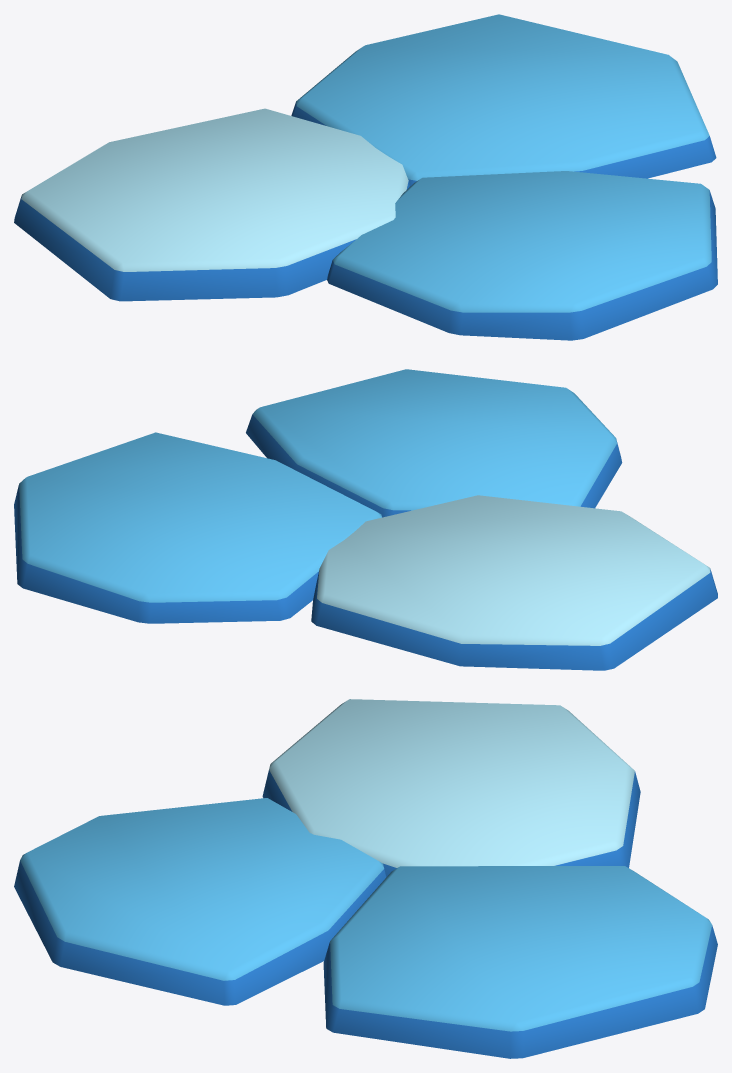
Rendered from IceSlab.fbx.
3 views of the same model, one above another, from view 1: azimuth 30°, elevation 25°; view 2: azimuth 150°, elevation 25°; view 3: azimuth 270°, elevation 25° (orthographic). The views are drawn at different scales.
Visible parts, largest first — view 1: IceSlab; view 2: IceSlab; view 3: IceSlab.
Boxes of the visible parts, x1,y1,x2,y2 form: IceSlab: [14, 14, 717, 340]; IceSlab: [14, 369, 717, 670]; IceSlab: [14, 699, 717, 1058].
Size of the model in its own units: 1.66 by 0.0796 by 1.48.
Materials: 1 (1 with a texture image).
